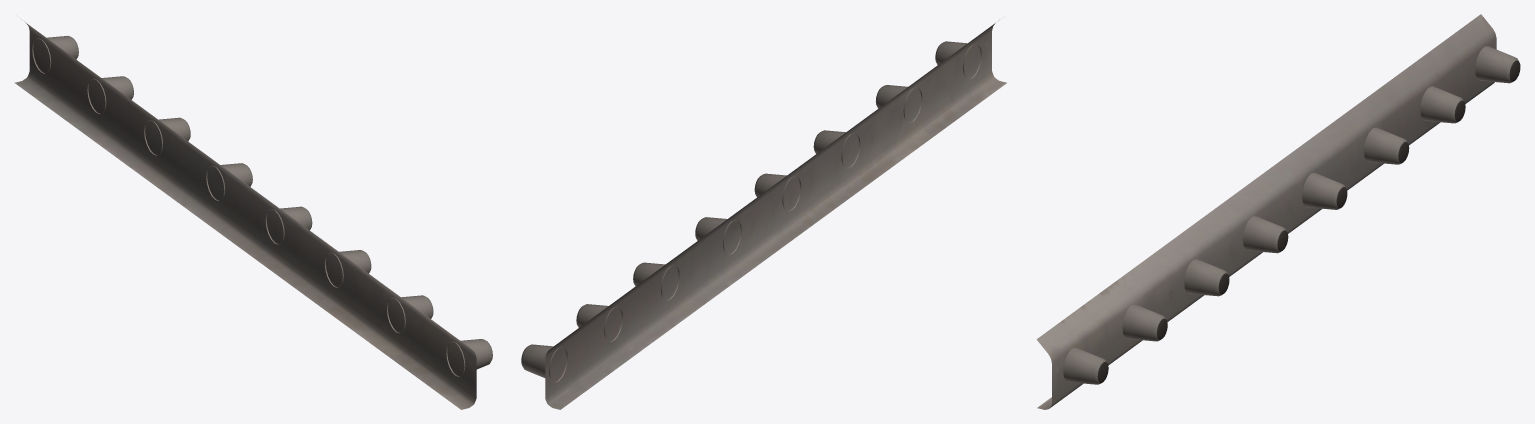
File: estante.fbx
3 renders of one model, left to right at view 1: azimuth 30°, elevation 25°; view 2: azimuth 150°, elevation 25°; view 3: azimuth 330°, elevation 25°, orthographic.
Parts seen in each view (by area): view 1: Plane.016; view 2: Plane.016; view 3: Plane.016.
Part boxes in pixels (x1,y1,x2,y2): Plane.016: [14, 19, 492, 409]; Plane.016: [521, 23, 1006, 409]; Plane.016: [1036, 14, 1520, 409].
Size of the model in its own units: 7.1 by 9.82 by 115.
Materials: 2 (1 with a texture image).
